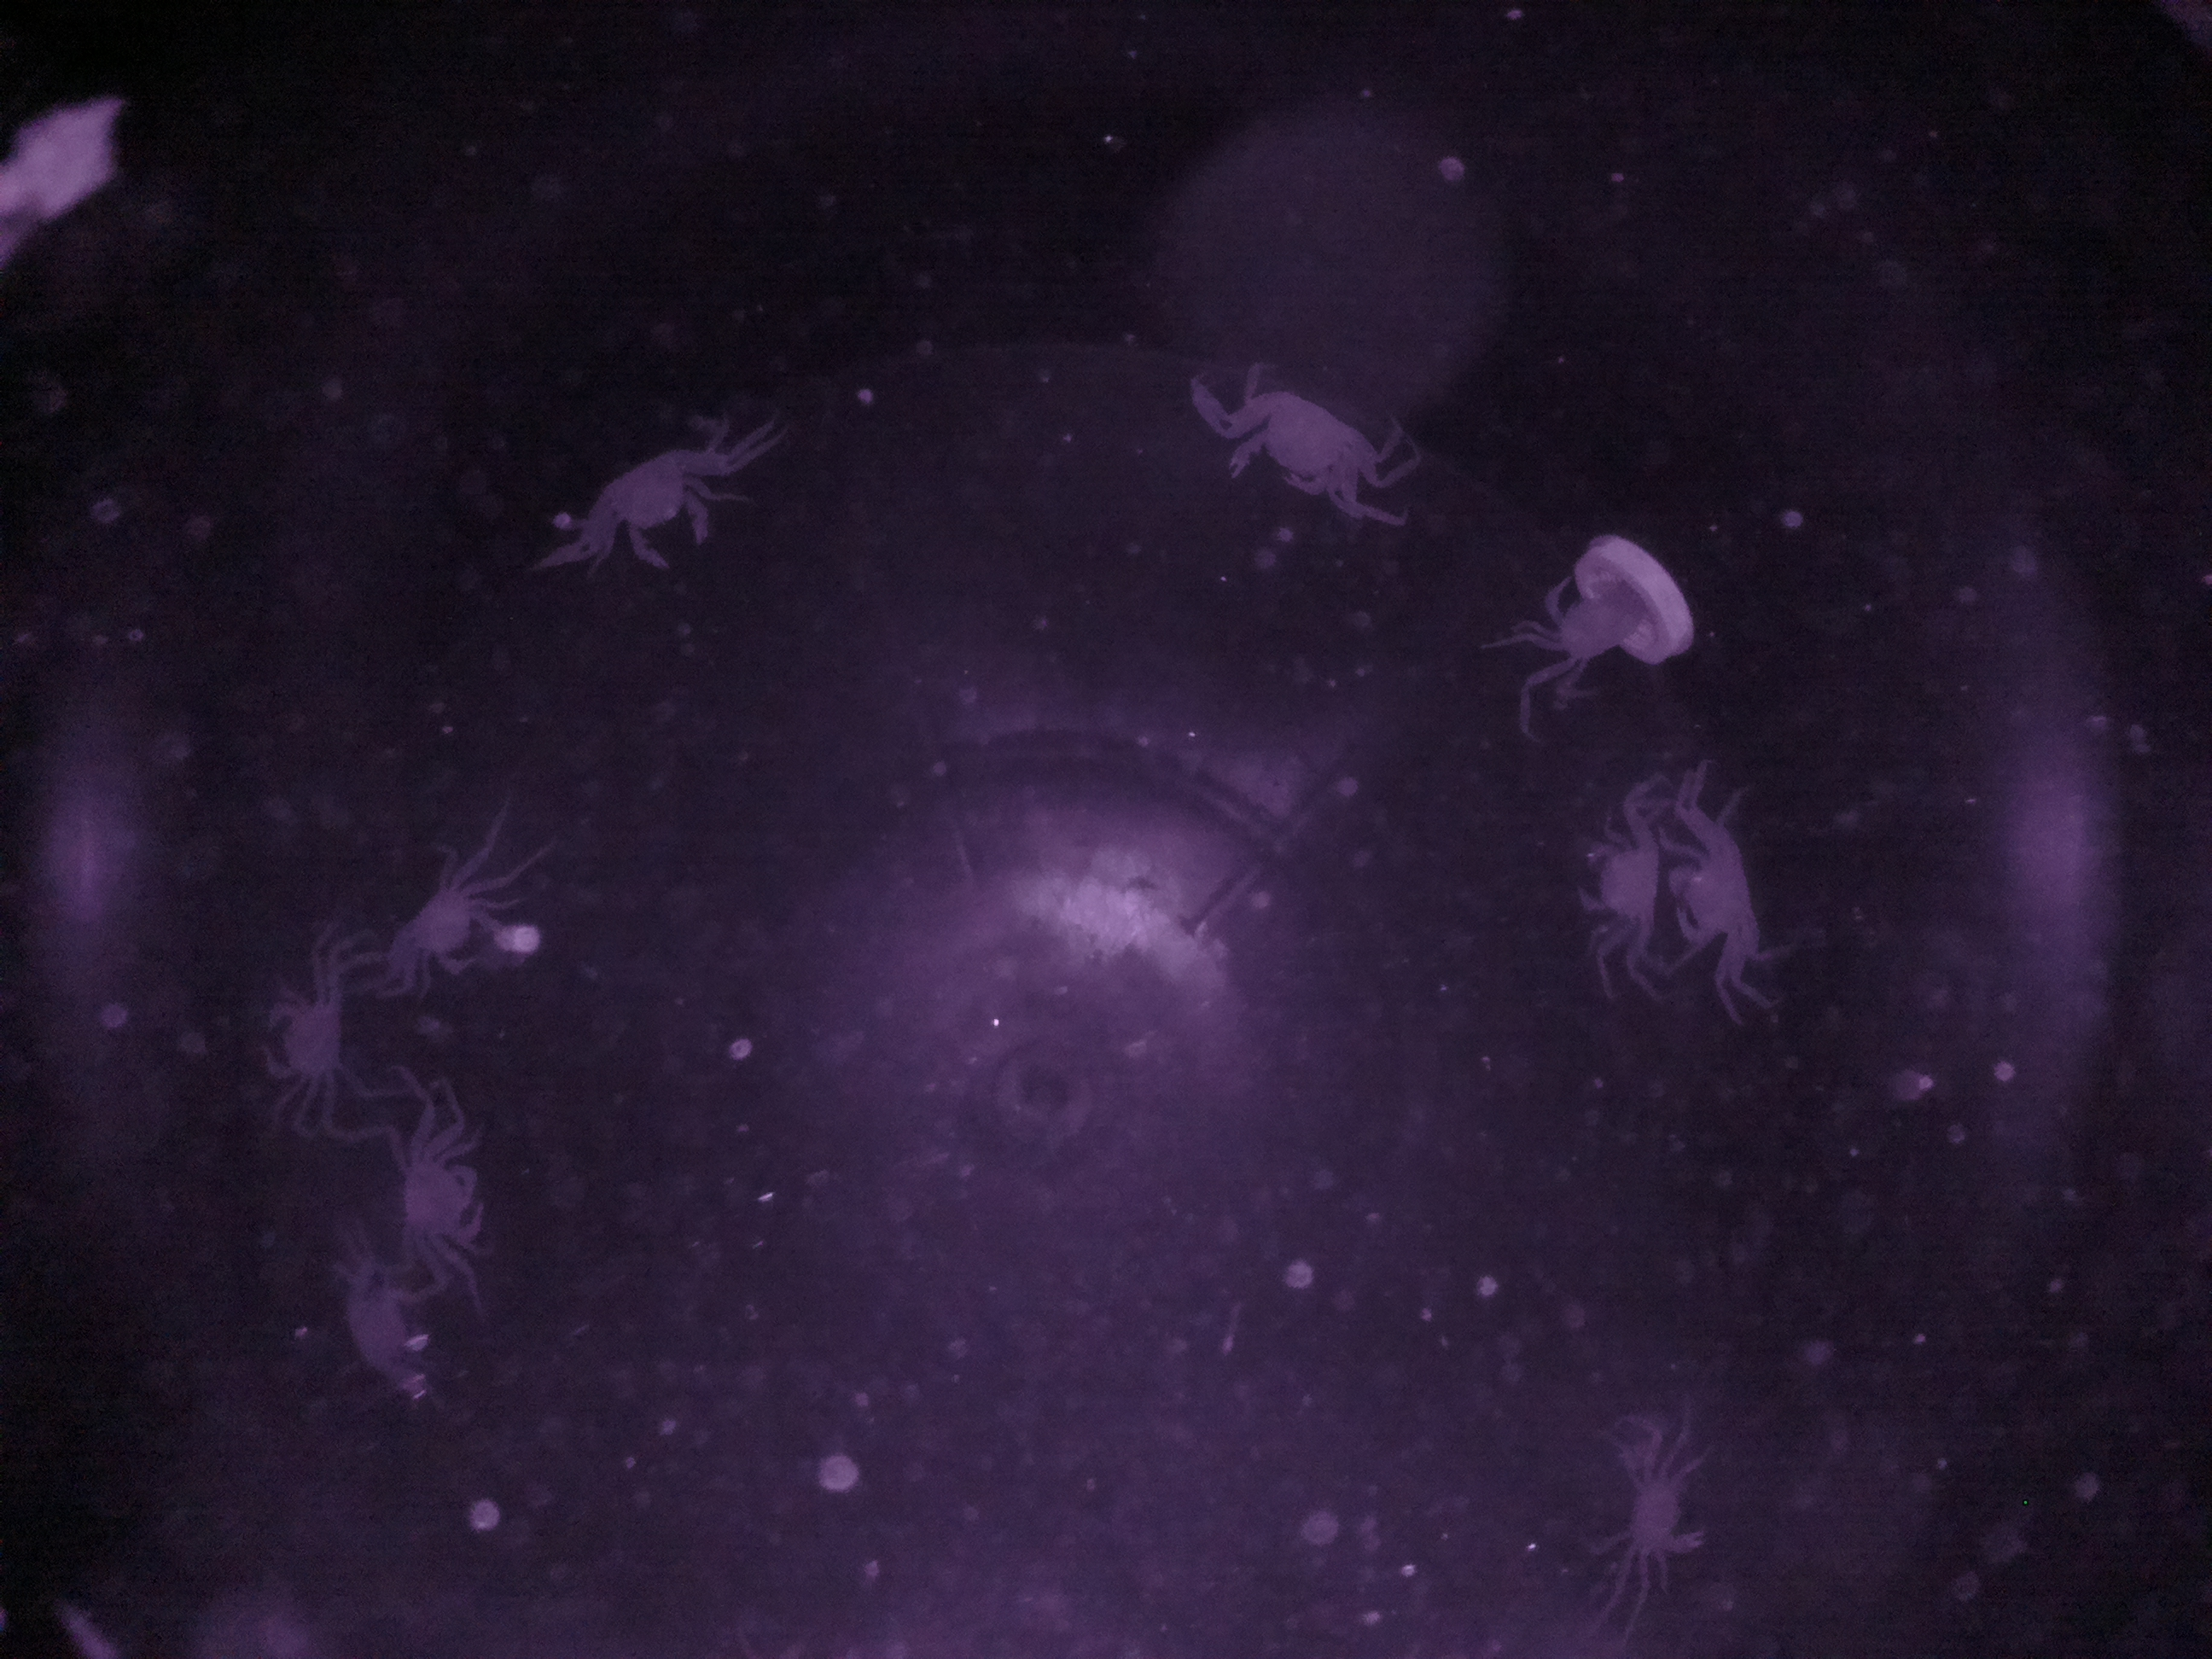Crab: (1195, 369, 1393, 533), (580, 415, 738, 591), (1590, 1417, 1731, 1605), (1670, 788, 1791, 1004), (376, 1115, 509, 1283), (376, 854, 526, 1000), (1562, 791, 1669, 983), (254, 939, 362, 1121)
